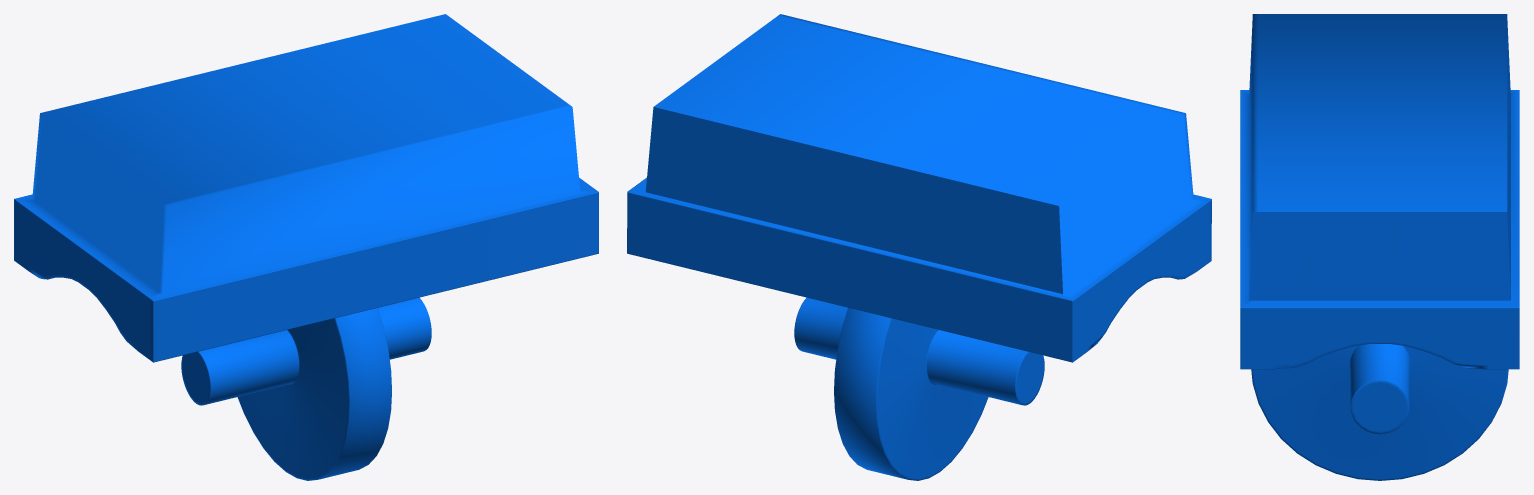
File: hanche.obj
The picture shows the model from 3 angles, left to right: view 1: azimuth 30°, elevation 25°; view 2: azimuth 150°, elevation 25°; view 3: azimuth 270°, elevation 25°; orthographic projection.
Visible parts, largest first — view 1: hanche; view 2: hanche; view 3: hanche.
Part boxes in pixels (x1,y1,x2,y2): hanche: (14,14,598,480); hanche: (627,14,1211,480); hanche: (1240,14,1519,480).
Size of the model in its own units: 1.1 by 0.8451 by 0.5975.
1 material, 1 textured.
